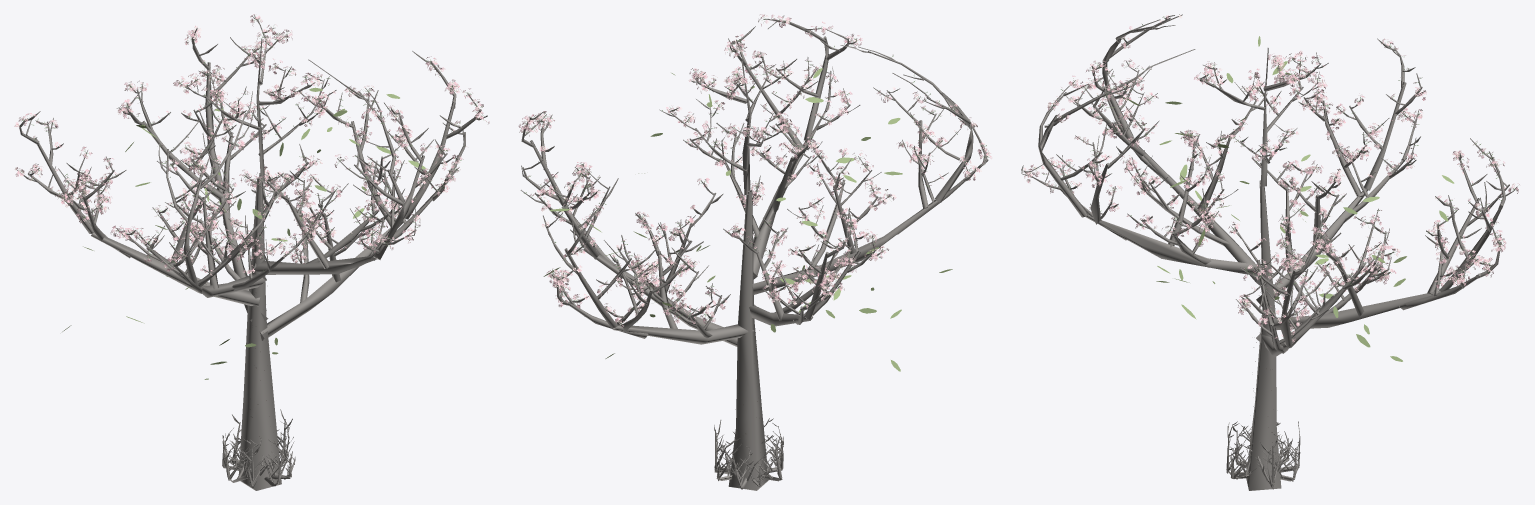
File: akebono_04.glb
The picture shows the model from 3 angles, left to right: view 1: azimuth 30°, elevation 25°; view 2: azimuth 150°, elevation 25°; view 3: azimuth 270°, elevation 25°; orthographic projection. The views are drawn at different scales.
Parts seen in each view (by area): view 1: Akebono_Petals_Consolidated, Akebono_Branch_Order_2, Akebono_Branch_Order_3, Akebono_Branch_Order_4, Akebono_Trunk_and_Scaffolds, Akebono_Trunk_and_Scaffolds.001, Akebono_Calyx_and_Stamens; view 2: Akebono_Petals_Consolidated, Akebono_Branch_Order_2, Akebono_Branch_Order_3, Akebono_Branch_Order_4, Akebono_Trunk_and_Scaffolds.001, Akebono_Trunk_and_Scaffolds, Akebono_Calyx_and_Stamens; view 3: Akebono_Petals_Consolidated, Akebono_Branch_Order_2, Akebono_Branch_Order_3, Akebono_Branch_Order_4, Akebono_Trunk_and_Scaffolds.001, Akebono_Trunk_and_Scaffolds, Akebono_Calyx_and_Stamens.
Boxes of the visible parts, bbox=[...] form: Akebono_Petals_Consolidated: bbox=[14, 14, 489, 275]; Akebono_Branch_Order_2: bbox=[35, 39, 455, 486]; Akebono_Branch_Order_3: bbox=[19, 20, 481, 477]; Akebono_Branch_Order_4: bbox=[17, 15, 487, 469]; Akebono_Trunk_and_Scaffolds: bbox=[238, 177, 281, 490]; Akebono_Trunk_and_Scaffolds.001: bbox=[91, 38, 405, 487]; Akebono_Calyx_and_Stamens: bbox=[19, 18, 484, 271]; Akebono_Petals_Consolidated: bbox=[518, 14, 992, 327]; Akebono_Branch_Order_2: bbox=[530, 36, 988, 487]; Akebono_Branch_Order_3: bbox=[521, 19, 987, 483]; Akebono_Branch_Order_4: bbox=[520, 19, 987, 477]; Akebono_Trunk_and_Scaffolds.001: bbox=[583, 60, 938, 489]; Akebono_Trunk_and_Scaffolds: bbox=[728, 190, 768, 490]; Akebono_Calyx_and_Stamens: bbox=[524, 17, 989, 325]; Akebono_Petals_Consolidated: bbox=[1023, 15, 1519, 342]; Akebono_Branch_Order_2: bbox=[1038, 37, 1503, 487]; Akebono_Branch_Order_3: bbox=[1023, 17, 1509, 476]; Akebono_Branch_Order_4: bbox=[1021, 14, 1516, 471]; Akebono_Trunk_and_Scaffolds.001: bbox=[1085, 48, 1440, 489]; Akebono_Trunk_and_Scaffolds: bbox=[1246, 180, 1281, 490]; Akebono_Calyx_and_Stamens: bbox=[1026, 14, 1517, 337].
Size of the model in its own units: 9.48 by 9.87 by 10.11.
